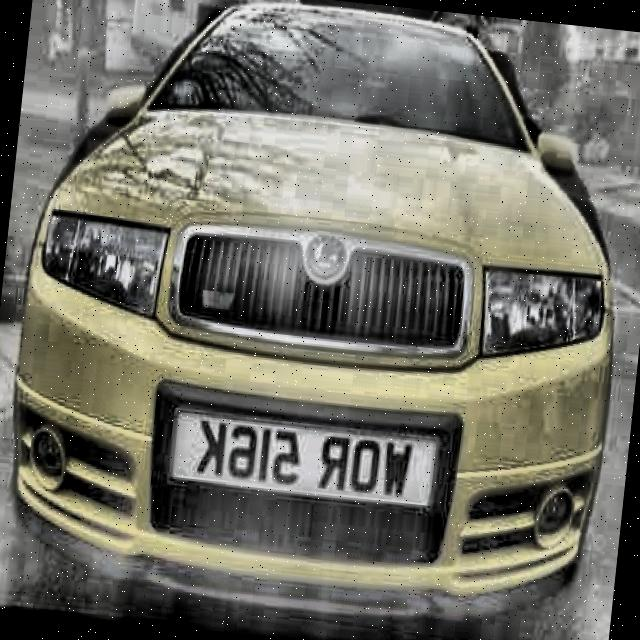license_plate: (164, 406, 445, 519)
